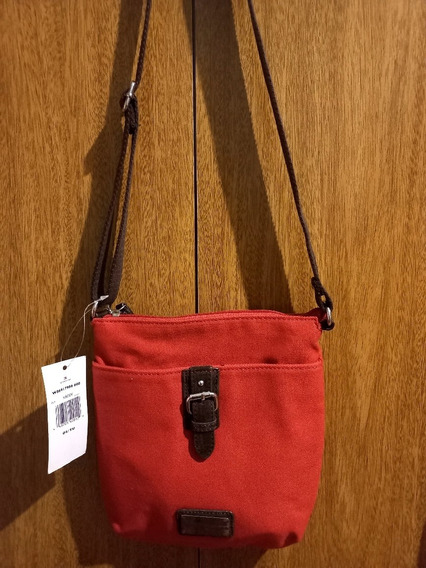cartera: (88, 7, 333, 550)
